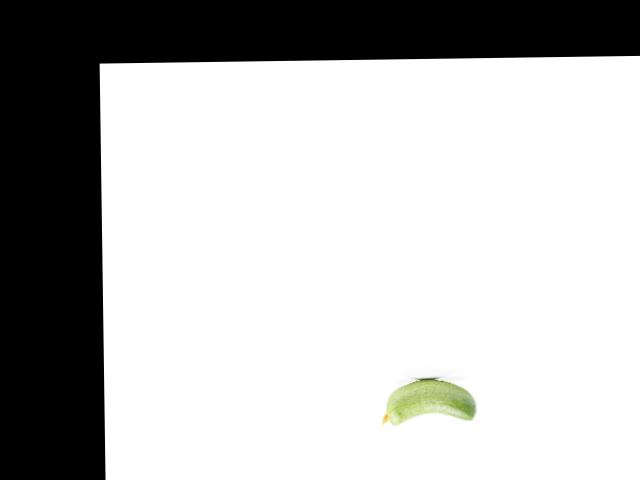cucumber: (381, 377, 477, 426)
